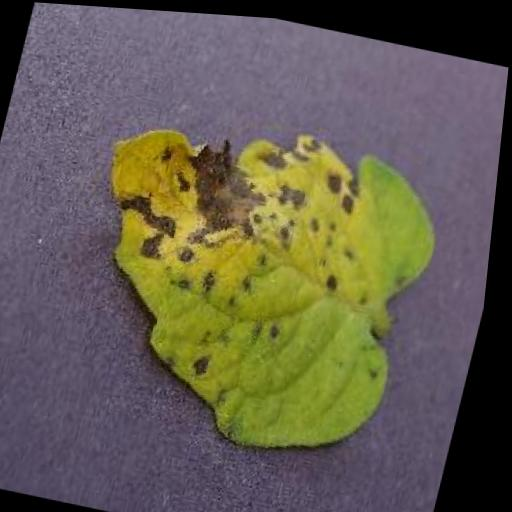Septoria: (49, 94, 464, 475)
